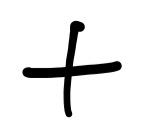plus: (23, 21, 122, 117)
